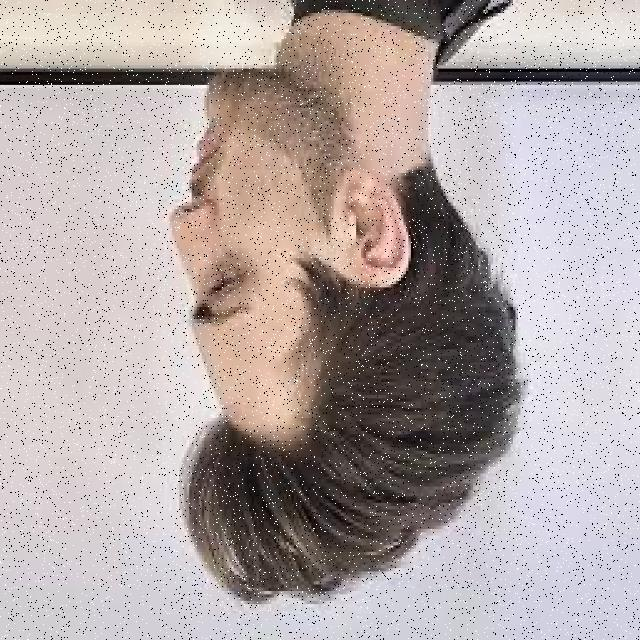Non_Helmet: (156, 83, 544, 631)
